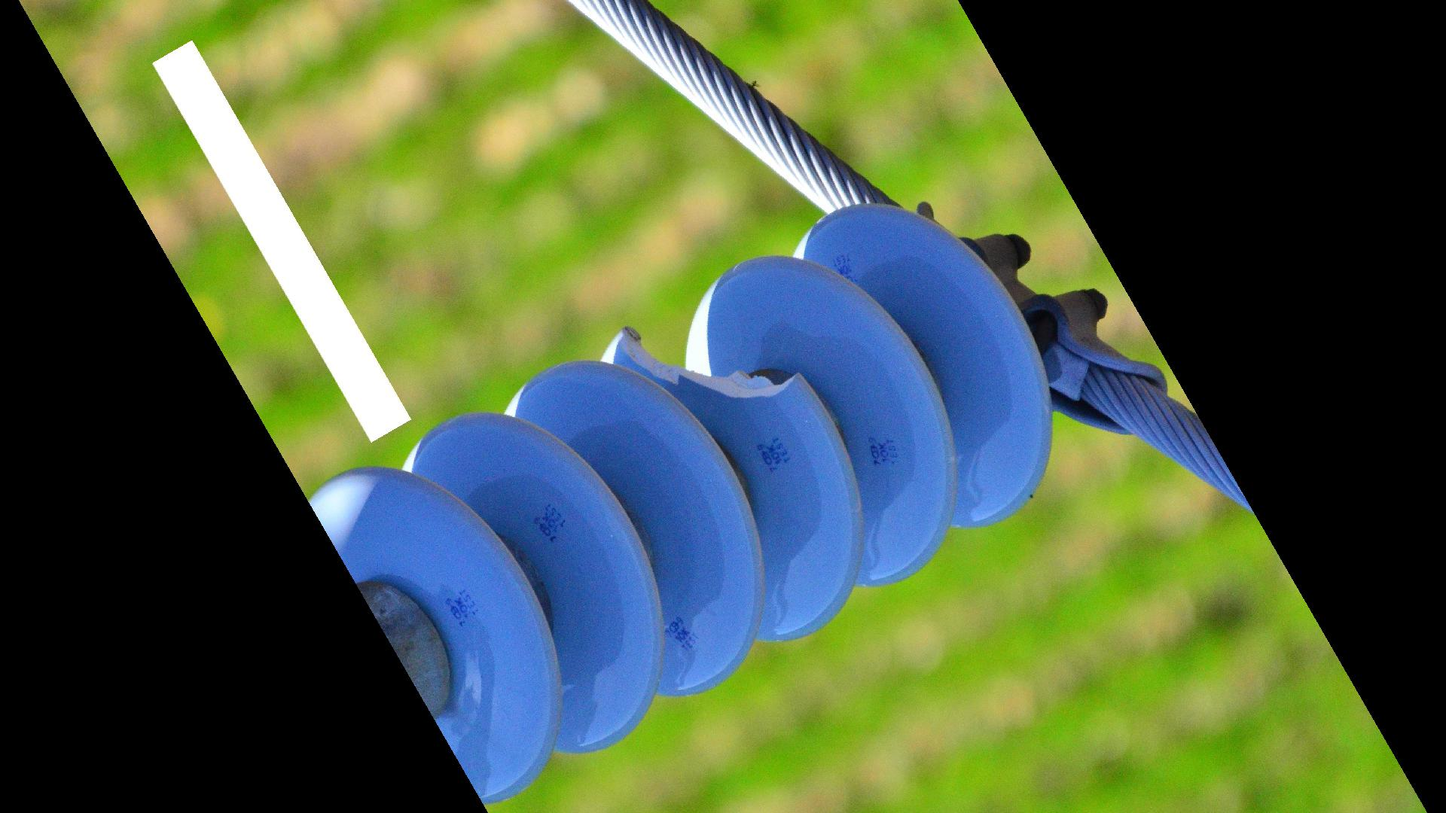insulator: (300, 193, 1064, 803)
insulator_breakage: (609, 308, 815, 424)
